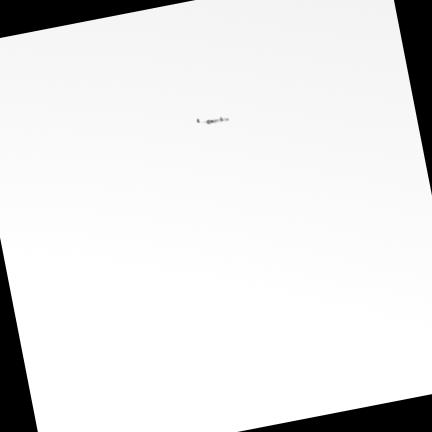Shahed: (205, 118, 228, 124), (197, 119, 200, 122)
